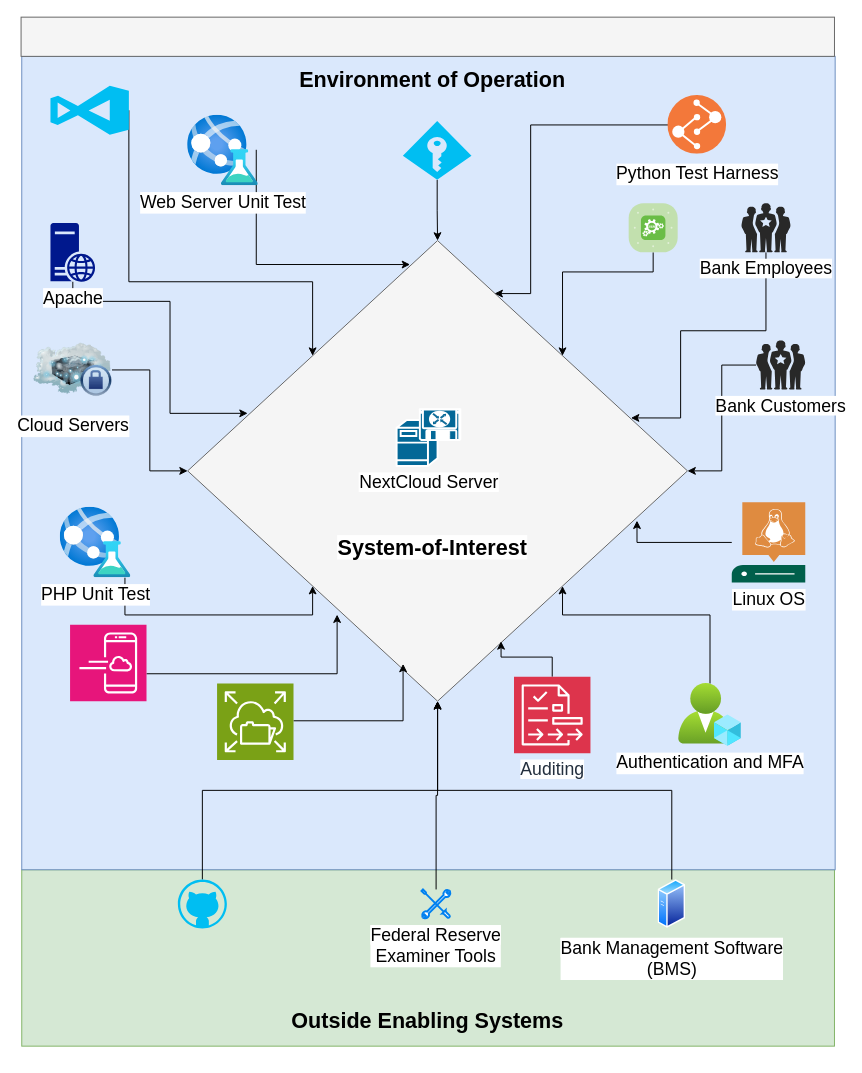
The diagram is 862 pixels wide and 1073 high, and some of its shapes have lost their labels. Here are the shapes that lost their labels. From the top down, the box of each, then its label:
(20, 16, 834, 56): Mythical Code Busters - GetFINHelp - Systems Engineering View
(50, 85, 128, 134): VS CODE
(402, 121, 471, 179): Access Controls
(628, 202, 678, 252): SIEM
(69, 624, 147, 701): Mobile App Unit Test
(216, 683, 294, 760): File Storage
(177, 879, 226, 928): Github Contributors Open-Source Devs
